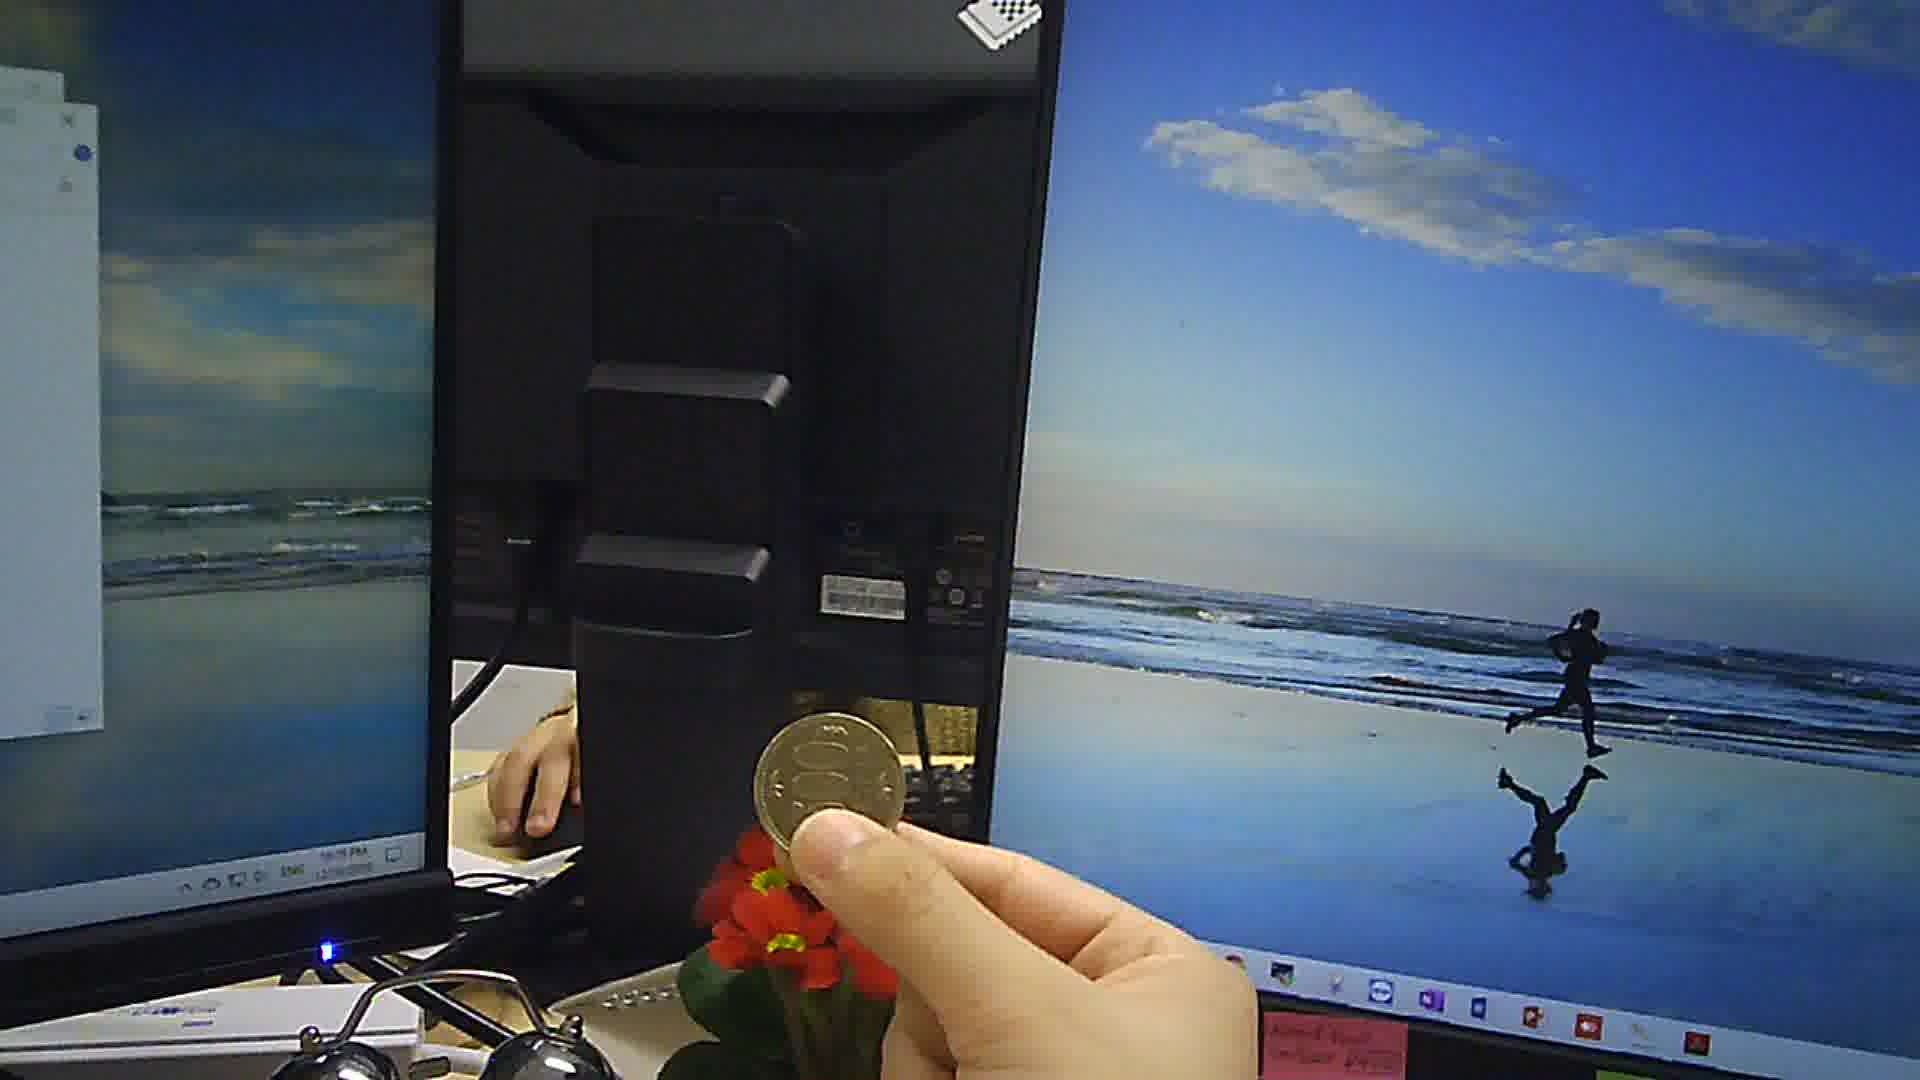500 Yen: (752, 713, 905, 852)
